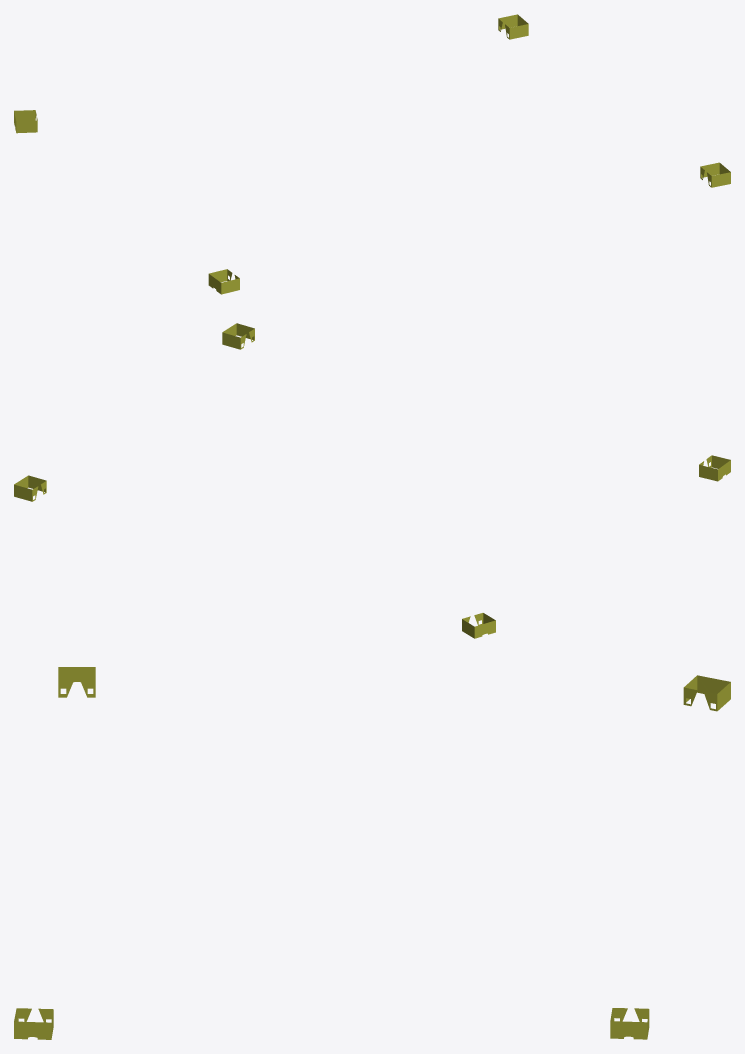
File: cluster_0.fbx
3 renders of one model, top to bottom at view 1: azimuth 30°, elevation 25°; view 2: azimuth 150°, elevation 25°; view 3: azimuth 270°, elevation 25°, orthographic. The views are drawn at different scales.
Parts seen in each view (by area): view 1: cluster_0; view 2: cluster_0; view 3: cluster_0.
Part boxes in pixels (box(x1,y1,x2,y2)): cluster_0: box(14, 14, 730, 294); cluster_0: box(14, 323, 730, 638); cluster_0: box(14, 667, 730, 1039).
Bounding box in the file's own units: 1057220 × 26509 × 897197.
